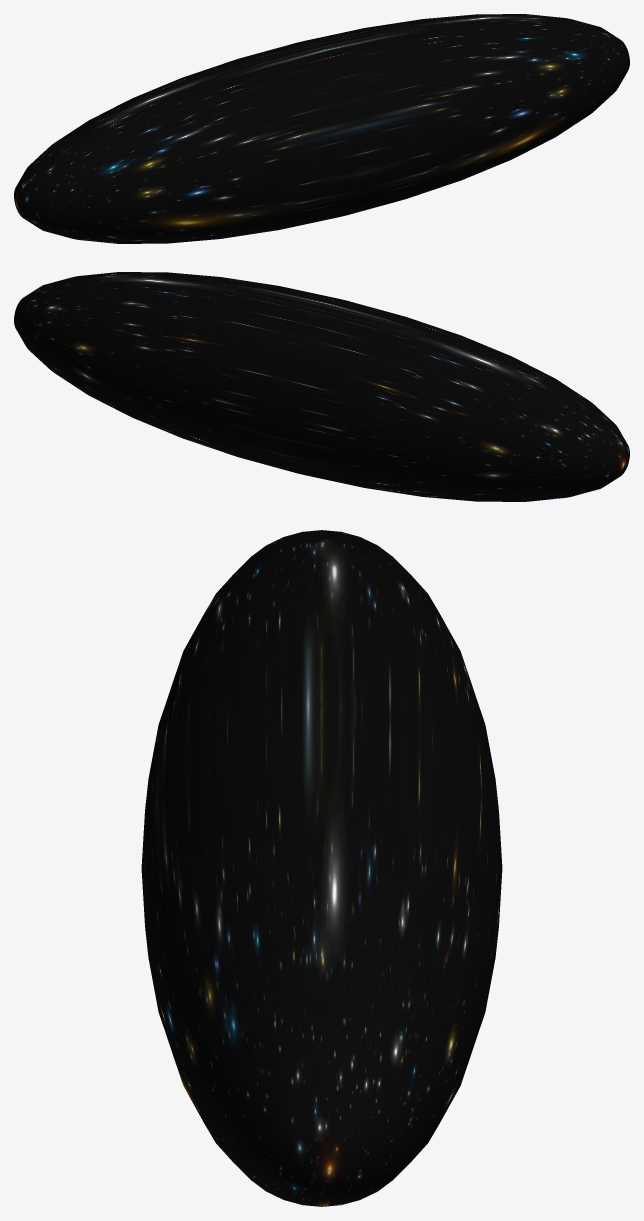
Rendered from Mundongus2.fbx.
The picture shows the model from 3 angles, top to bottom: view 1: azimuth 30°, elevation 25°; view 2: azimuth 150°, elevation 25°; view 3: azimuth 270°, elevation 25°; orthographic projection. The views are drawn at different scales.
Visible parts, largest first — view 1: Sphere; view 2: Sphere; view 3: Sphere.
Boxes of the visible parts, x1=… form: Sphere: x1=14, y1=14, x2=629, y2=243; Sphere: x1=14, y1=272, x2=629, y2=501; Sphere: x1=141, y1=530, x2=502, y2=1206.
Size of the model in its own units: 13987 by 3582 by 3582.
1 material, 1 textured.
